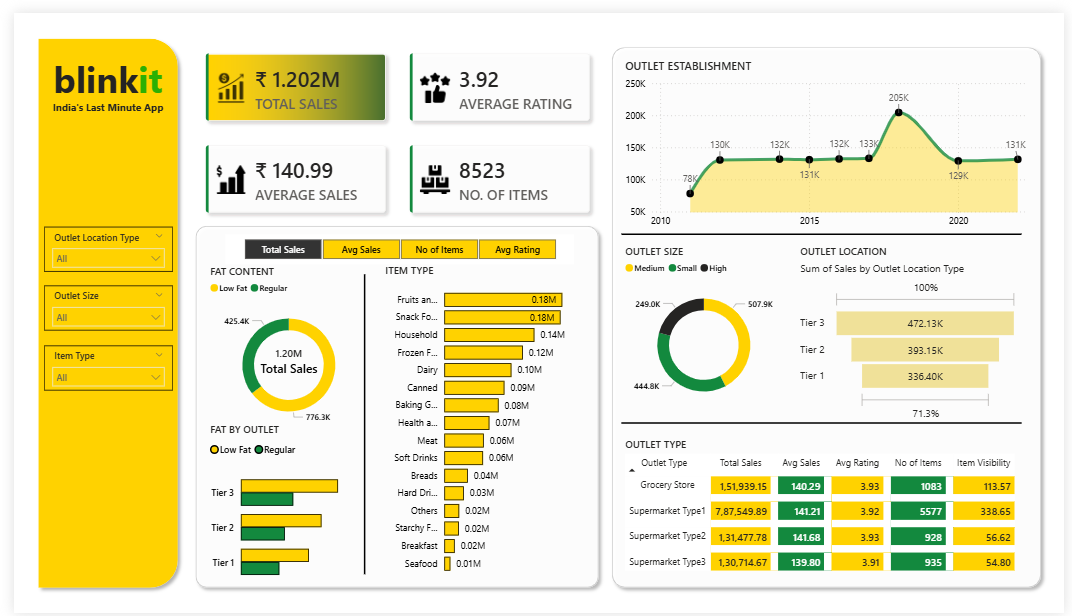

What the dashboard file says about the page in this screenshot:
{"tool":"powerbi","page":{"name":"Page 1","canvas":[1400,800],"ordinal":0},"visuals":[{"type":"shape","box":[22.5,25.5,204.1,750.4],"z":0},{"type":"textbox","box":[22.5,49.5,204.1,85.5],"z":1000},{"type":"textbox","box":[22.5,111.1,204.1,85.5],"z":2000},{"type":"cardVisual","fields":{"Data":["BlinkIT Grocery Data.Total Sales","BlinkIT Grocery Data.Avg Rating","BlinkIT Grocery Data.Avg Sales","BlinkIT Grocery Data.No of Items"]},"box":[226.7,25,570,270],"z":3000},{"type":"shape","box":[233.3,275,555,500],"z":4000},{"type":"donutChart","title":"FAT CONTENT","fields":{"Y":["BlinkIT Grocery Data.Total Sales"],"Category":["BlinkIT Grocery Data.Item Fat Content"]},"box":[256.7,335,220,230],"z":5000},{"type":"slicer","fields":{"Values":["Metrics.Metrics"]},"box":[281.7,295,465,40],"z":6000},{"type":"cardVisual","fields":{"Data":["BlinkIT Grocery Data.Total Sales"]},"box":[295,423.3,143.3,80],"z":7000},{"type":"clusteredBarChart","title":"FAT BY OUTLET","fields":{"Y":["BlinkIT Grocery Data.Total Sales"],"Category":["BlinkIT Grocery Data.Outlet Location Type"],"Series":["BlinkIT Grocery Data.Item Fat Content"]},"box":[256.7,545,220,230],"z":8000},{"type":"shape","box":[423.3,348.3,88.3,400],"z":9000},{"type":"barChart","title":"ITEM TYPE","fields":{"Y":["BlinkIT Grocery Data.Total Sales"],"Category":["BlinkIT Grocery Data.Item Type"]},"box":[490,333.3,283.3,425],"z":10000},{"type":"shape","box":[788.3,36.7,590,738.3],"z":11000},{"type":"lineChart","title":"OUTLET ESTABLISHMENT","fields":{"Category":["BlinkIT Grocery Data.Outlet Establishment Year"],"Y":["BlinkIT Grocery Data.Total Sales"]},"box":[810,60,546.7,235],"z":12000},{"type":"shape","box":[810,95,533.3,400],"z":13000},{"type":"shape","box":[810,346.7,533.3,400],"z":14000},{"type":"donutChart","title":"OUTLET SIZE","fields":{"Y":["BlinkIT Grocery Data.Total Sales"],"Category":["BlinkIT Grocery Data.Outlet Size"]},"box":[810,308.3,220,230],"z":15000},{"type":"funnel","title":"OUTLET LOCATION","fields":{"Category":["BlinkIT Grocery Data.Outlet Location Type"],"Y":["Sum(BlinkIT Grocery Data.Sales)"]},"box":[1043.3,308.3,300,240],"z":16000},{"type":"pivotTable","title":"OUTLET TYPE","fields":{"Rows":["BlinkIT Grocery Data.Outlet Type"],"Values":["BlinkIT Grocery Data.Total Sales","BlinkIT Grocery Data.Avg Sales","BlinkIT Grocery Data.Avg Rating","BlinkIT Grocery Data.No of Items","Sum(BlinkIT Grocery Data.Item Visibility)"]},"box":[810,565,533.3,185],"z":17000},{"type":"slicer","fields":{"Values":["BlinkIT Grocery Data.Outlet Location Type"]},"box":[40,285,171.7,60],"z":18000},{"type":"slicer","fields":{"Values":["BlinkIT Grocery Data.Outlet Size"]},"box":[40,363.3,171.7,60],"z":19000},{"type":"slicer","fields":{"Values":["BlinkIT Grocery Data.Item Type"]},"box":[40,443.3,171.7,60],"z":20000}]}

Visuals, with their boxes in screenshot pixels (x1, y1, x2, y2), scaled from the page's 1400x800 canvas onto the 1072x616 screenshot:
shape: bbox=[17, 20, 174, 597]
textbox: bbox=[17, 38, 174, 104]
textbox: bbox=[17, 86, 174, 151]
cardVisual - BlinkIT Grocery Data.Total Sales x BlinkIT Grocery Data.Avg Rating: bbox=[174, 19, 610, 227]
shape: bbox=[179, 212, 604, 597]
"FAT CONTENT" donutChart: bbox=[197, 258, 365, 435]
slicer - Metrics.Metrics: bbox=[216, 227, 572, 258]
cardVisual - BlinkIT Grocery Data.Total Sales: bbox=[226, 326, 336, 388]
"FAT BY OUTLET" clusteredBarChart: bbox=[197, 420, 365, 597]
shape: bbox=[324, 268, 392, 576]
"ITEM TYPE" barChart: bbox=[375, 257, 592, 584]
shape: bbox=[604, 28, 1055, 597]
"OUTLET ESTABLISHMENT" lineChart: bbox=[620, 46, 1039, 227]
shape: bbox=[620, 73, 1029, 381]
shape: bbox=[620, 267, 1029, 575]
"OUTLET SIZE" donutChart: bbox=[620, 237, 789, 414]
"OUTLET LOCATION" funnel: bbox=[799, 237, 1029, 422]
"OUTLET TYPE" pivotTable: bbox=[620, 435, 1029, 578]
slicer - BlinkIT Grocery Data.Outlet Location Type: bbox=[31, 219, 162, 266]
slicer - BlinkIT Grocery Data.Outlet Size: bbox=[31, 280, 162, 326]
slicer - BlinkIT Grocery Data.Item Type: bbox=[31, 341, 162, 388]
